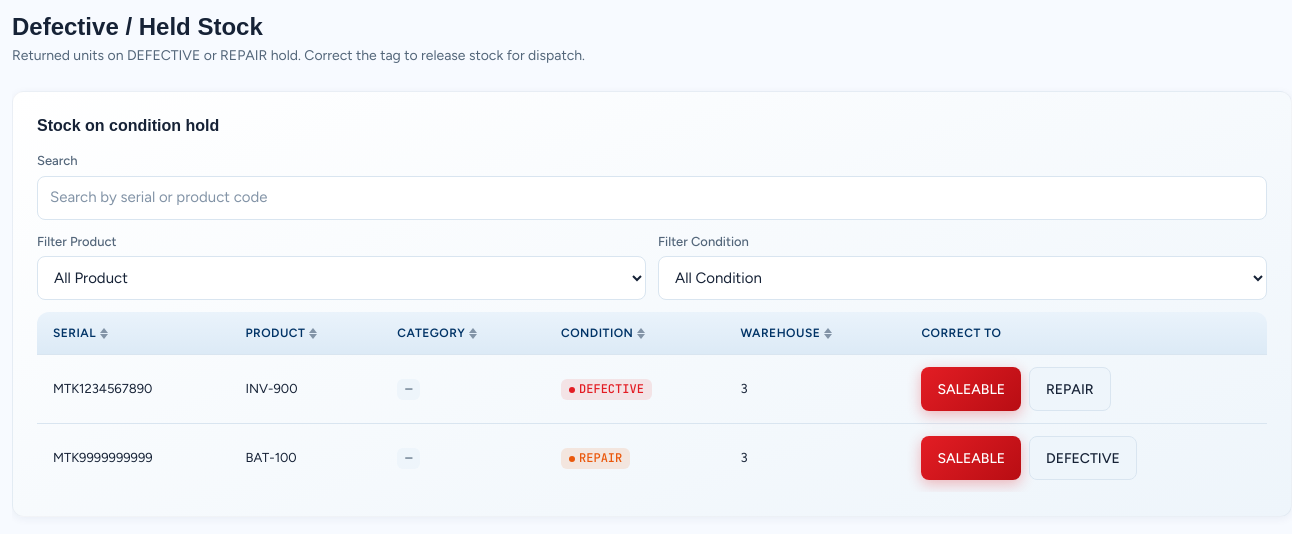
Test: ConditionPage › search filters the held stock list
The image size is (1292, 534).
expect the text "MTK1234567890" is shown: met, box 37,355 -> 230,424
In the search field labelled "Search": x=652, y=198 37,176 -> 1267,220, type "BAT-100"
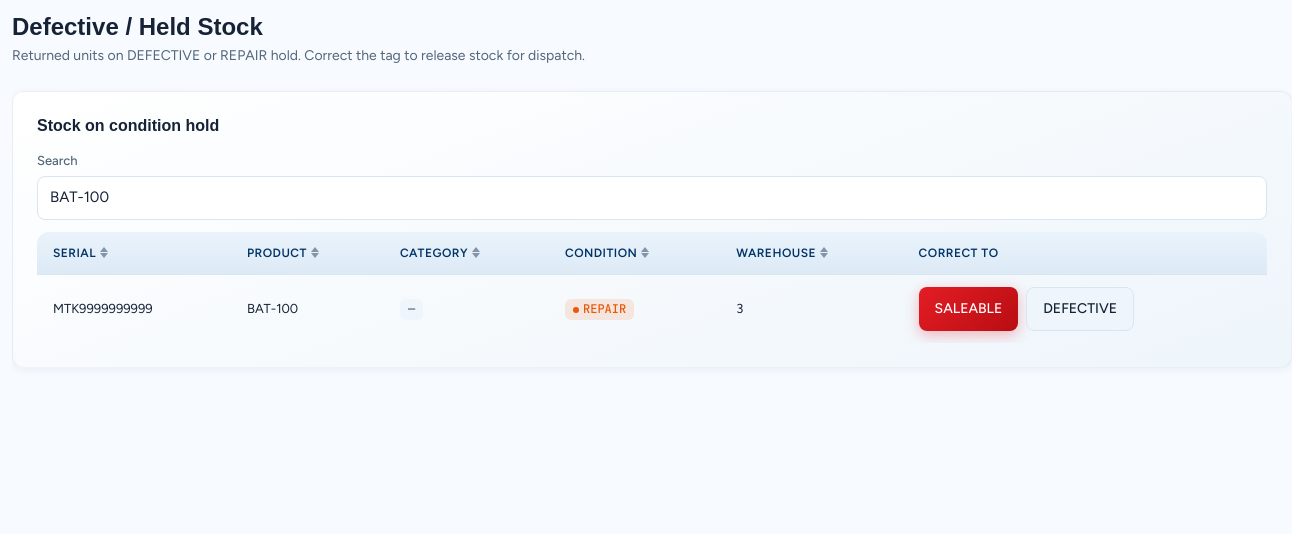
expect the text "MTK1234567890" is gone: met
expect the text "MTK9999999999" is shown: met, box 37,275 -> 231,343
